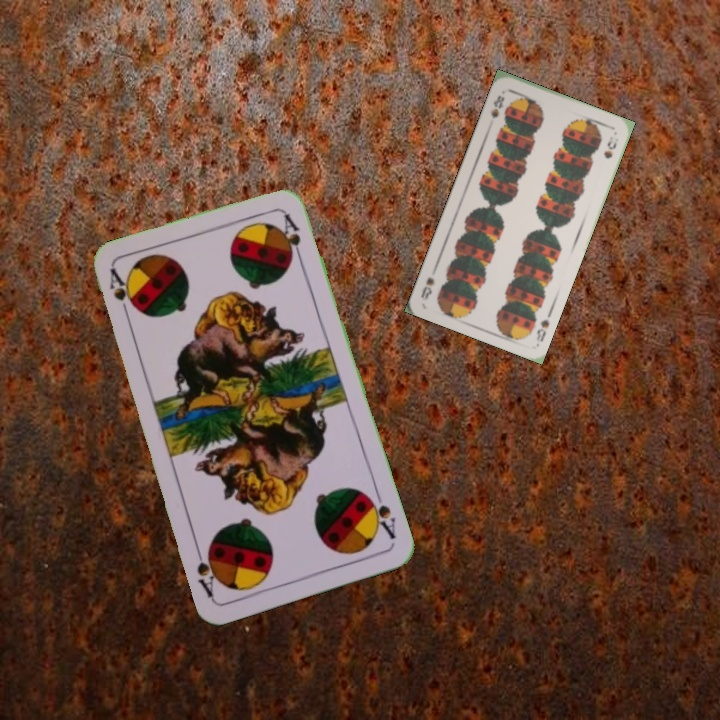S8: (486, 91, 507, 121), (532, 315, 552, 344)
SA: (362, 486, 398, 542), (105, 265, 135, 323)
